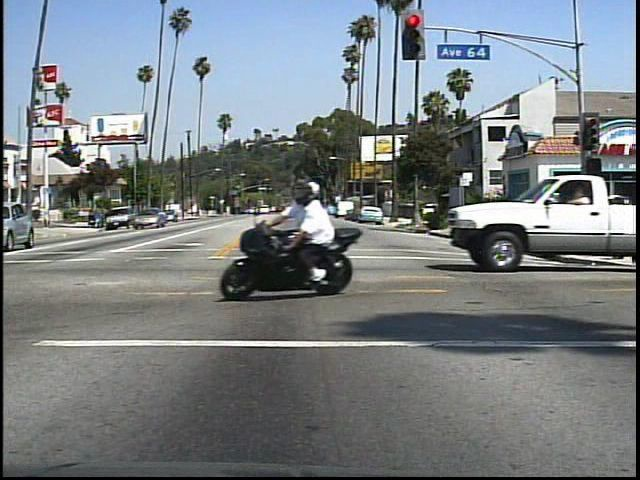person: (280, 177, 356, 291), (544, 192, 573, 245)
